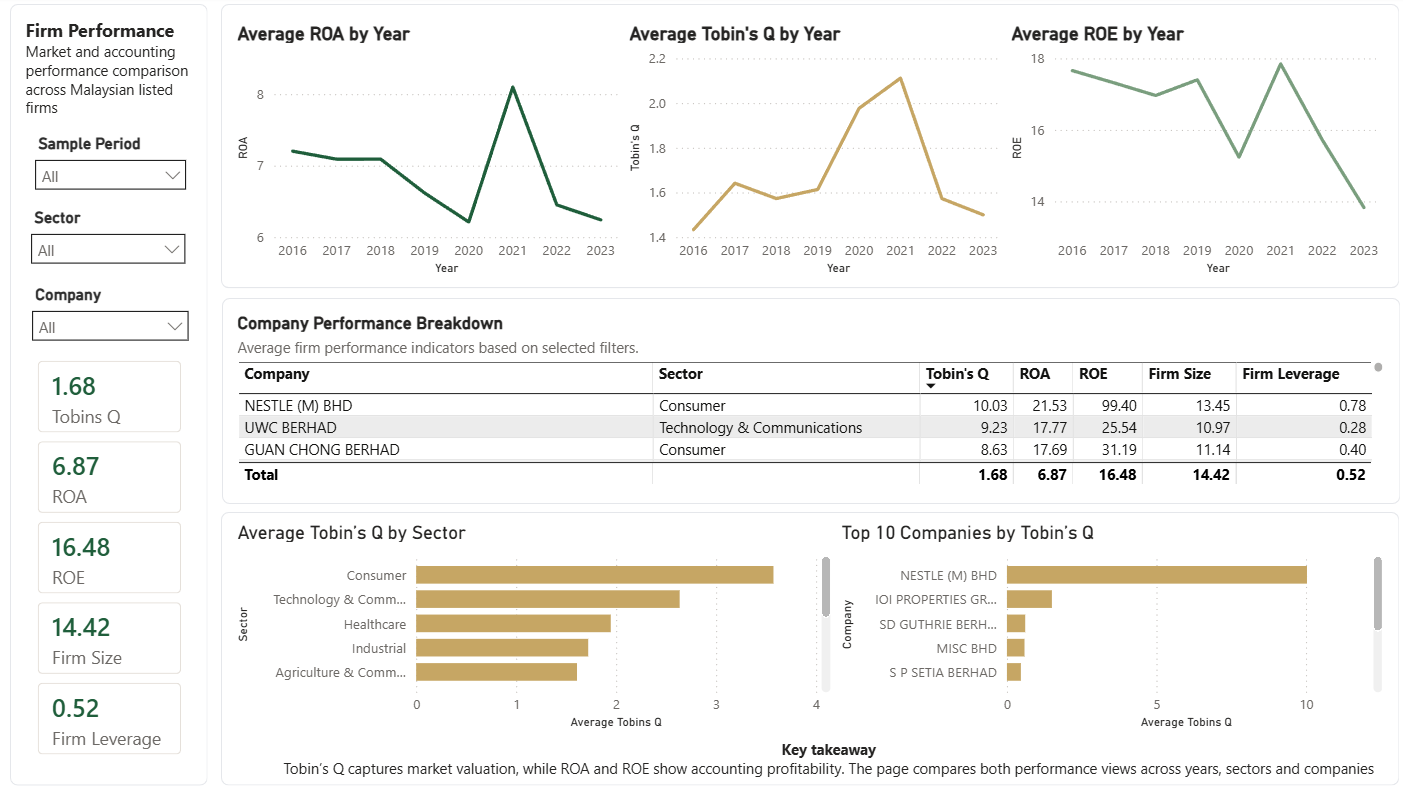

This screenshot's page, from the dashboard's own definition file:
{"tool":"powerbi","page":{"name":"Firm Performance","canvas":[1280,720],"ordinal":2},"visuals":[{"type":"shape","box":[12.9,7.5,179.3,708.7],"z":0},{"type":"textbox","box":[21.5,15,163.2,104.2],"z":1000},{"type":"slicer","fields":{"Values":["Regression_Results.SamplePeriod"]},"box":[25.1,120.9,157.4,87.8],"z":2000},{"type":"slicer","fields":{"Values":["Industry_Dimension.SectorCategory"]},"box":[22.1,188.1,160.4,69.7],"z":3000},{"type":"cardVisual","fields":{"Data":["FirmYear_Data.Average Tobins Q","FirmYear_Data.Average ROA","FirmYear_Data.Average ROE","FirmYear_Data.Average Firm Size","FirmYear_Data.Average Firm Leverage"]},"box":[21,314.2,164.8,393.8],"z":4000},{"type":"slicer","fields":{"Values":["FirmYear_Data.CompanyName"]},"box":[22.6,257.7,162.1,56.9],"z":5000},{"type":"shape","box":[204,7.5,1068.5,257.7],"z":10000},{"type":"shape","box":[204,468.2,1068.5,248.1],"z":11000},{"type":"lineChart","title":"Average ROA by Year","fields":{"Category":["Year_Dimension.Year"],"Y":["FirmYear_Data.Average ROA"]},"box":[213.7,23.6,355.4,234.1],"z":12000},{"type":"shape","box":[205.1,273.8,1068.5,186.8],"z":13000},{"type":"clusteredBarChart","title":"Average Tobin’s Q by Sector","fields":{"Category":["Industry_Dimension.SectorCategory"],"Y":["FirmYear_Data.Average Tobins Q"]},"box":[213.7,475.7,547.7,193.3],"z":14000},{"type":"clusteredBarChart","title":"Top 10 Companies by Tobin’s Q","fields":{"Category":["Firm_Dimension.CompanyName"],"Y":["FirmYear_Data.Average Tobins Q"]},"box":[761.3,475.7,500.4,193.3],"z":15000},{"type":"tableEx","title":"Company Performance Breakdown","fields":{"Values":["Firm_Dimension.CompanyName","Industry_Dimension.SectorCategory","FirmYear_Data.Average Tobins Q","FirmYear_Data.Average ROA","FirmYear_Data.Average ROE","FirmYear_Data.Average Firm Size","FirmYear_Data.Average Firm Leverage"]},"box":[213.7,286.7,1049.1,161.1],"z":16000},{"type":"lineChart","title":"Average Tobin''s Q by Year","fields":{"Category":["Year_Dimension.Year"],"Y":["FirmYear_Data.Average Tobins Q"]},"box":[569.1,23.6,346.8,234.1],"z":17000},{"type":"lineChart","title":"Average ROE by Year","fields":{"Category":["Year_Dimension.Year"],"Y":["FirmYear_Data.Average ROE"]},"box":[916,23.6,345.8,234.1],"z":18000},{"type":"textbox","box":[237.3,669,1035.2,47.2],"z":19000}]}

Visuals, with their boxes in screenshot pixels (x1, y1, x2, y2), scaled from the page's 1280x720 canvas onto the 1403x786 screenshot:
shape: [x1=14, y1=8, x2=211, y2=782]
textbox: [x1=24, y1=16, x2=202, y2=130]
slicer - Regression_Results.SamplePeriod: [x1=28, y1=132, x2=200, y2=228]
slicer - Industry_Dimension.SectorCategory: [x1=24, y1=205, x2=200, y2=281]
cardVisual - FirmYear_Data.Average Tobins Q x FirmYear_Data.Average ROA: [x1=23, y1=343, x2=204, y2=773]
slicer - FirmYear_Data.CompanyName: [x1=25, y1=281, x2=202, y2=343]
shape: [x1=224, y1=8, x2=1395, y2=290]
shape: [x1=224, y1=511, x2=1395, y2=782]
"Average ROA by Year" lineChart: [x1=234, y1=26, x2=624, y2=281]
shape: [x1=225, y1=299, x2=1396, y2=503]
"Average Tobin’s Q by Sector" clusteredBarChart: [x1=234, y1=519, x2=835, y2=730]
"Top 10 Companies by Tobin’s Q" clusteredBarChart: [x1=834, y1=519, x2=1383, y2=730]
"Company Performance Breakdown" tableEx: [x1=234, y1=313, x2=1384, y2=489]
"Average Tobin''s Q by Year" lineChart: [x1=624, y1=26, x2=1004, y2=281]
"Average ROE by Year" lineChart: [x1=1004, y1=26, x2=1383, y2=281]
textbox: [x1=260, y1=730, x2=1395, y2=782]
